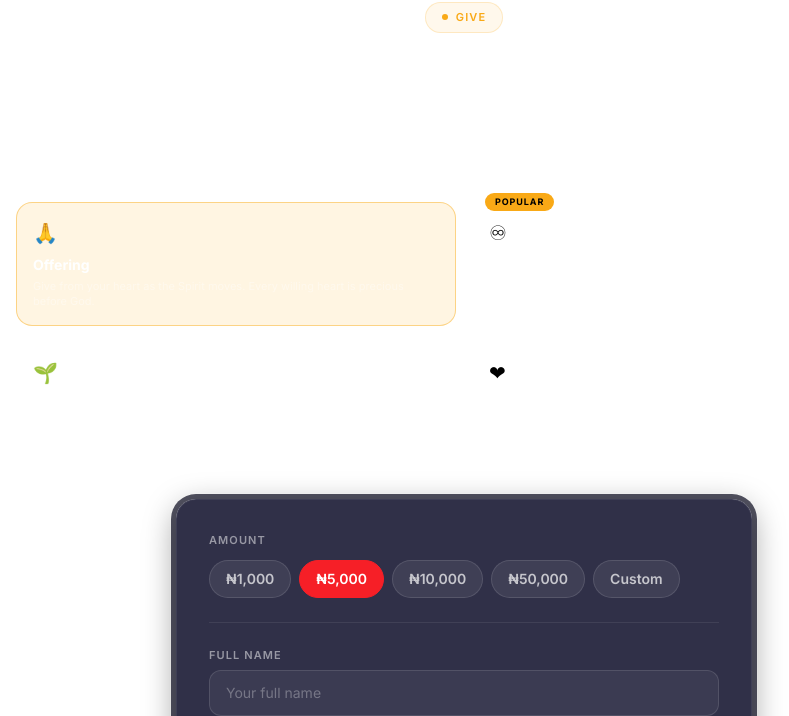
Test: GiveSection › transitions to success state after payment completes
Type "Joshua Moses" into the field labelled "Full Name" at {"x": 464, "y": 692}, box 209,670 -> 719,715
(page scrolled)
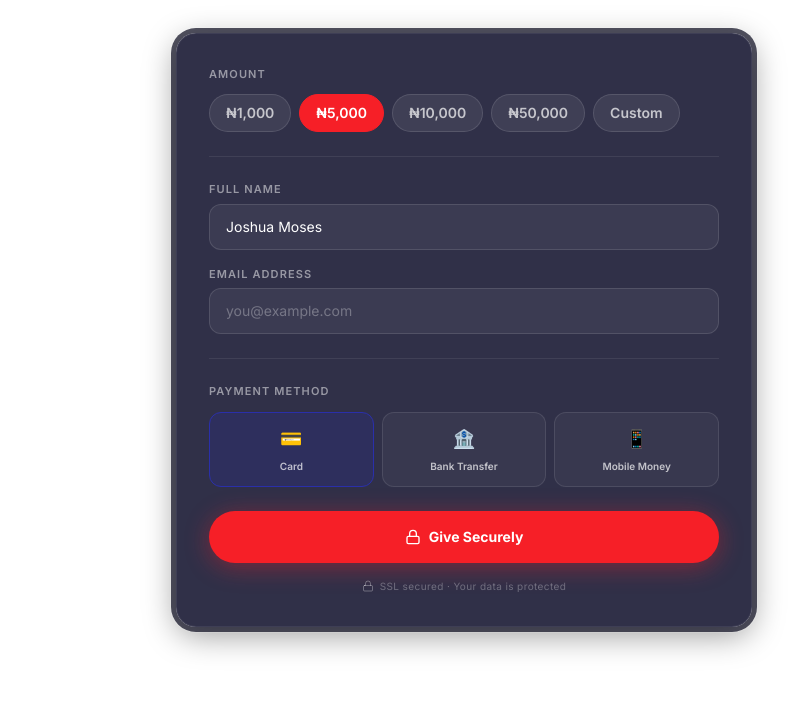
Type "josh@example.com" into the field labelled "Email Address" at {"x": 464, "y": 311}, box 209,288 -> 719,334
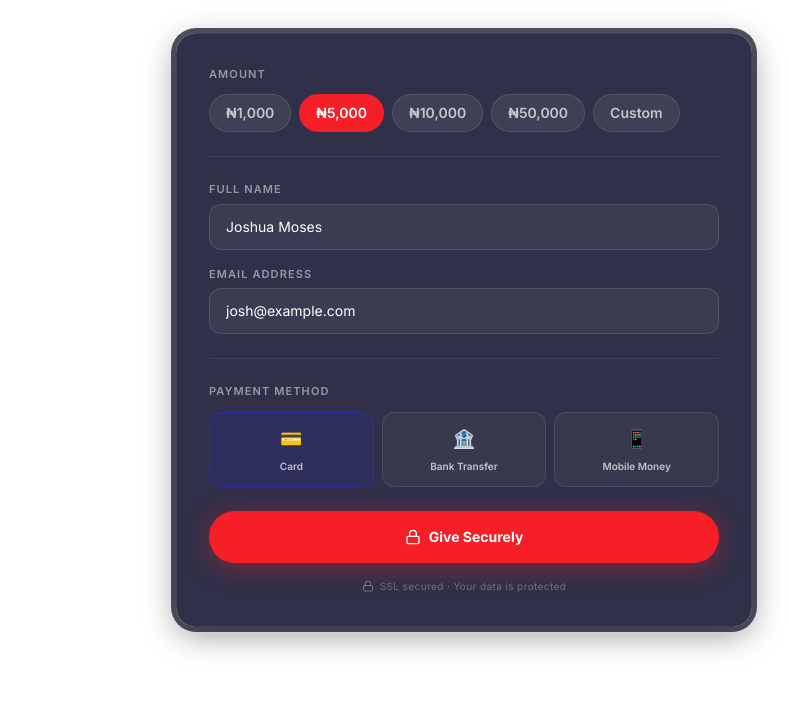
Click the button "Give Securely" at {"x": 464, "y": 536}, box 209,510 -> 719,562
(page scrolled)
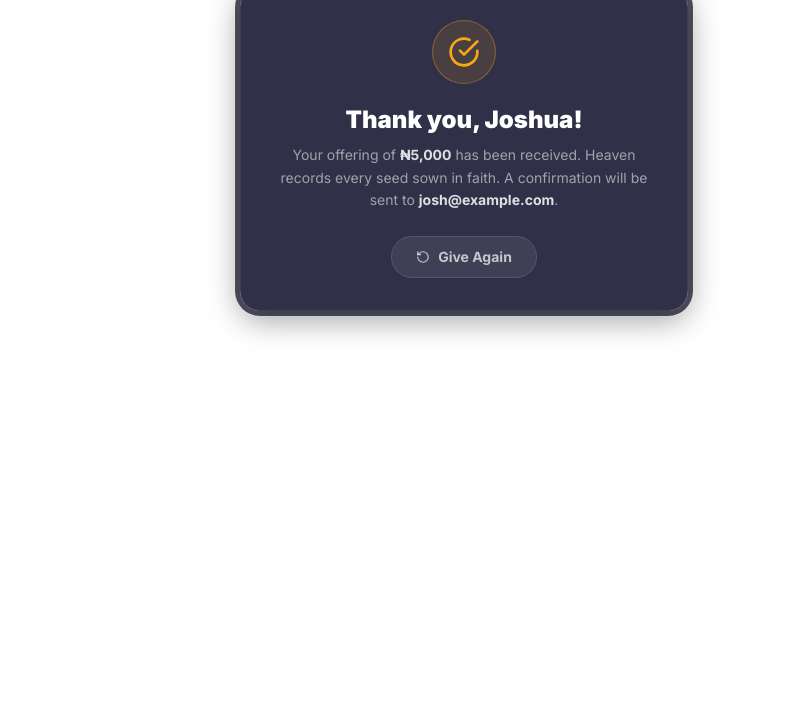
Now the heading "Thank you, Joshua!" is shown, box 345,105 -> 583,134
